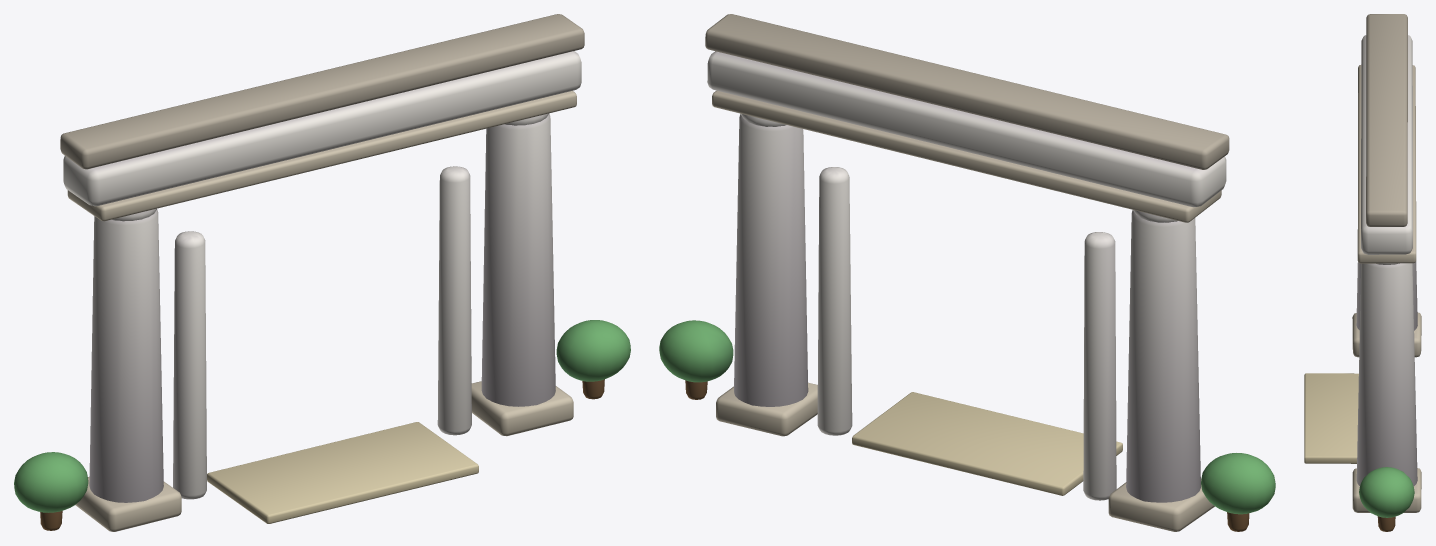
3 views of the same model, side by side, from view 1: azimuth 30°, elevation 25°; view 2: azimuth 150°, elevation 25°; view 3: azimuth 270°, elevation 25° (orthographic). The views are drawn at different scales.
Visible parts, largest first — view 1: gate_178ced91; view 2: gate_178ced91; view 3: gate_178ced91.
Boxes of the visible parts, x1=… form: gate_178ced91: x1=14, y1=14, x2=630, y2=531; gate_178ced91: x1=659, y1=14, x2=1275, y2=531; gate_178ced91: x1=1304, y1=14, x2=1421, y2=531.
Size of the model in its own units: 6.89 by 4.13 by 1.42.
